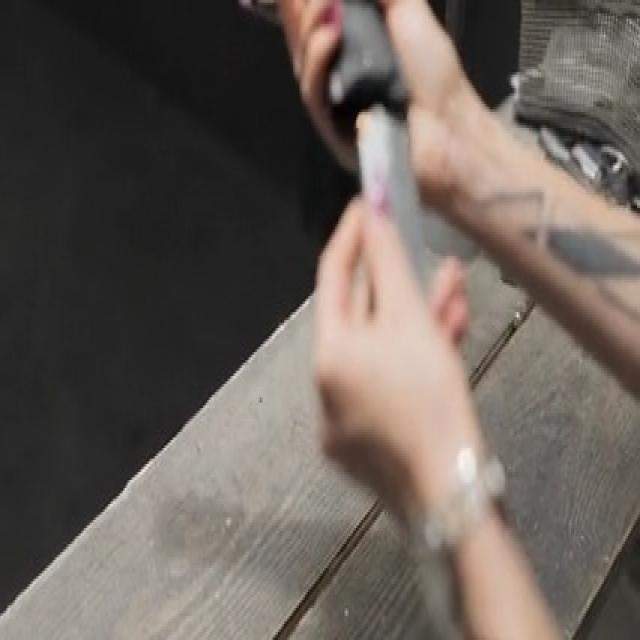Gun_Holder: (226, 0, 461, 309)
